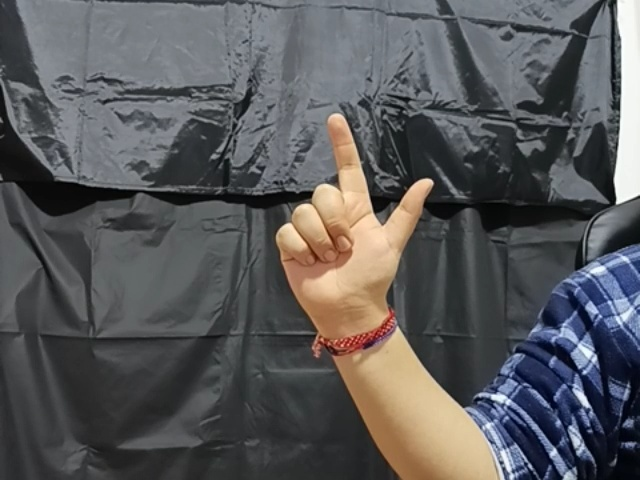L: (268, 109, 439, 313)
